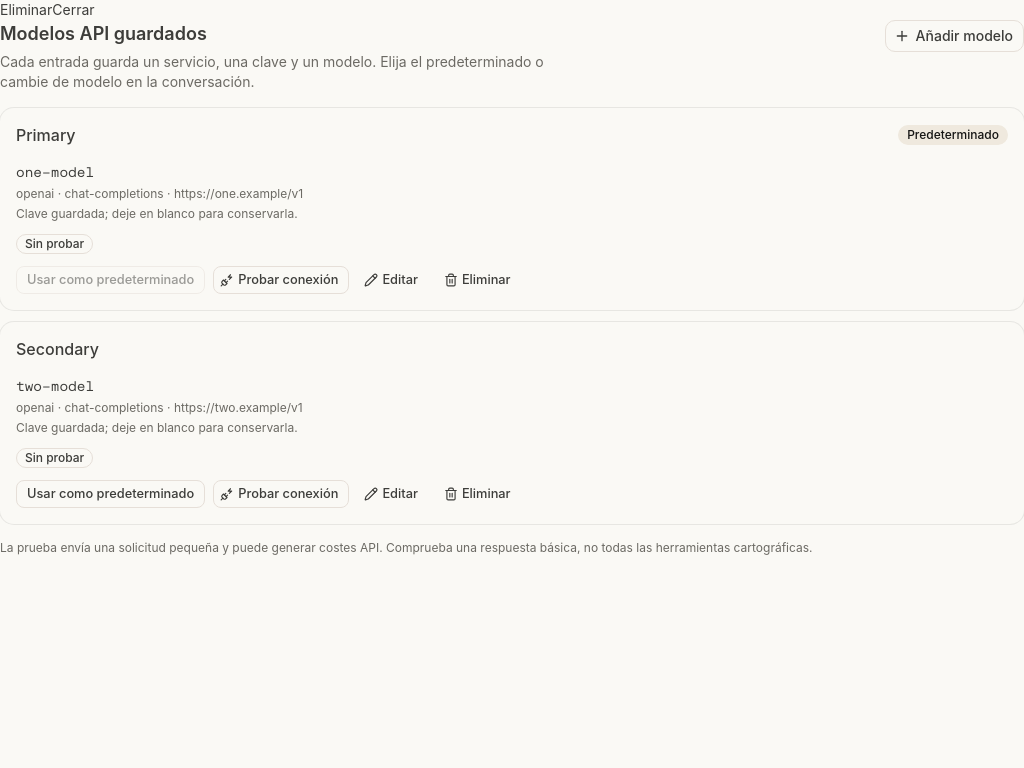
Test: API profile settings › labels the delete-dialog close action in es-ES
This screenshot has width=1024, height=768.
What coordinates should you click on to do the following:
click the button "Eliminar" below "https://two.example/v1"
I would click on:
 (479, 494)
Its box is x1=437 y1=480 x2=522 y2=508.
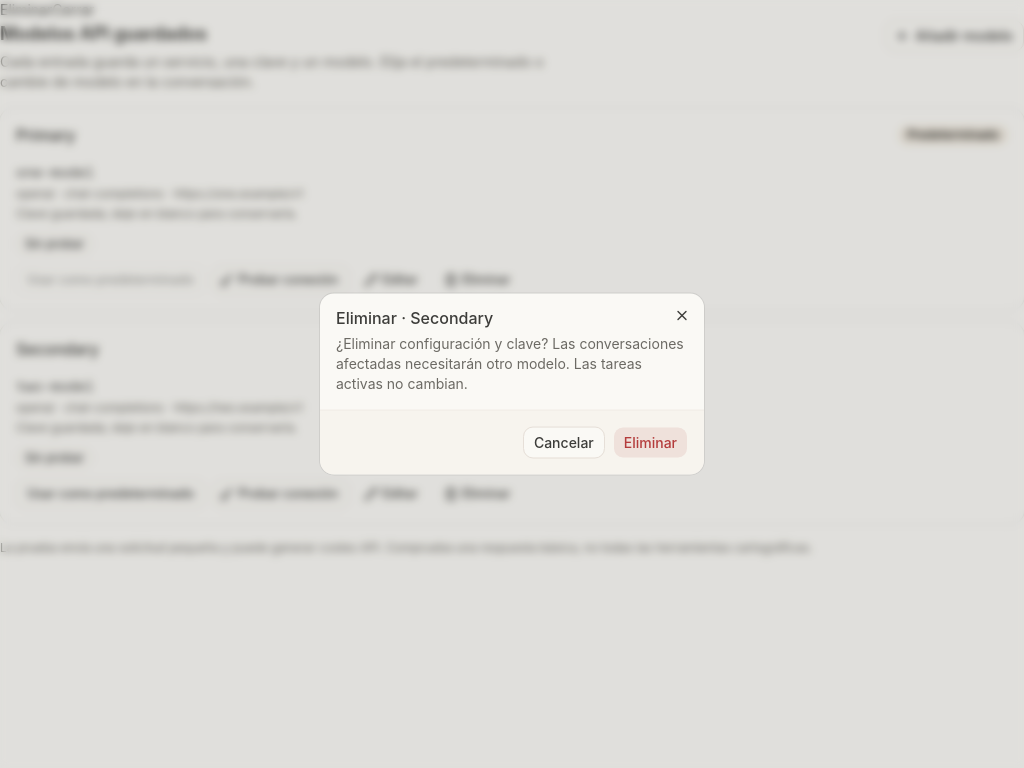
What coordinates should you click on to do the following:
click the button named "Cerrar"
I would click on:
 (682, 316)
Its box is x1=668 y1=302 x2=696 y2=330.
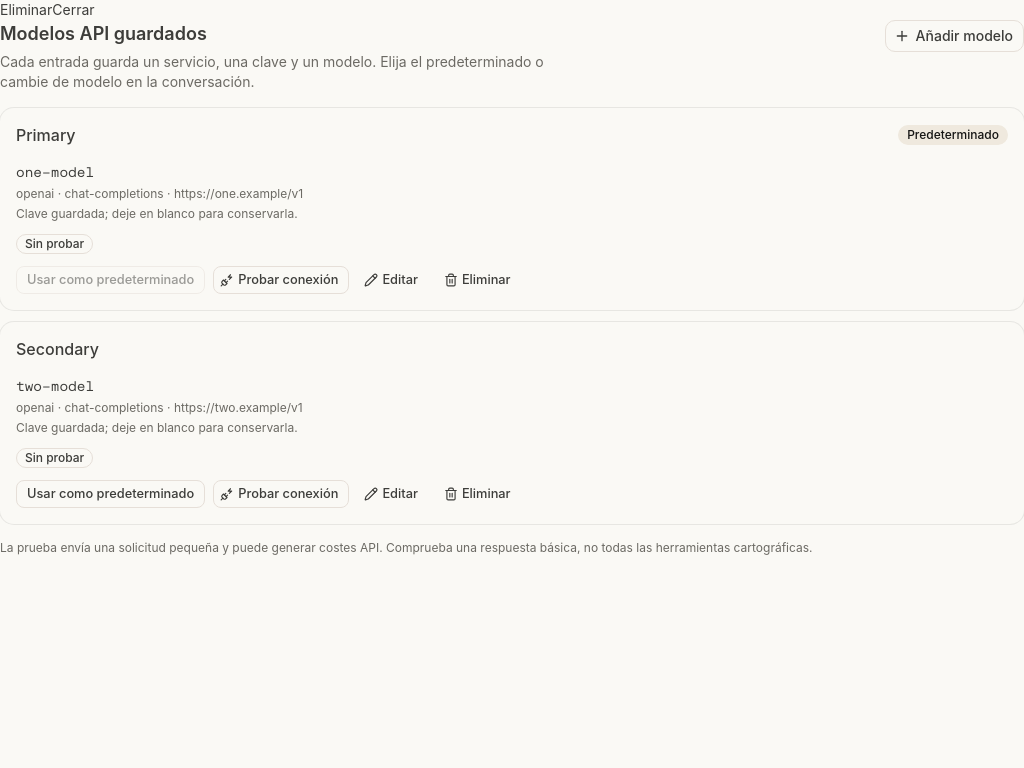
Expected: the dialog is gone
